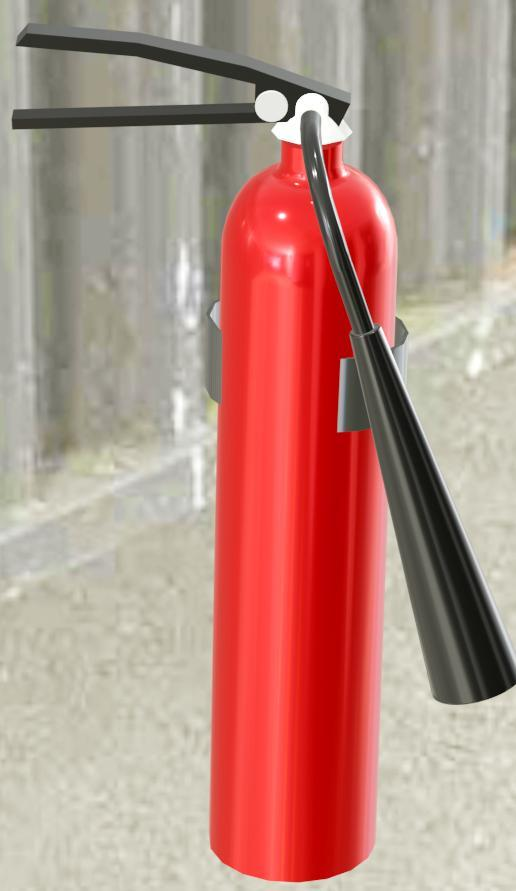Fire Extinguisher: (10, 15, 512, 882)
